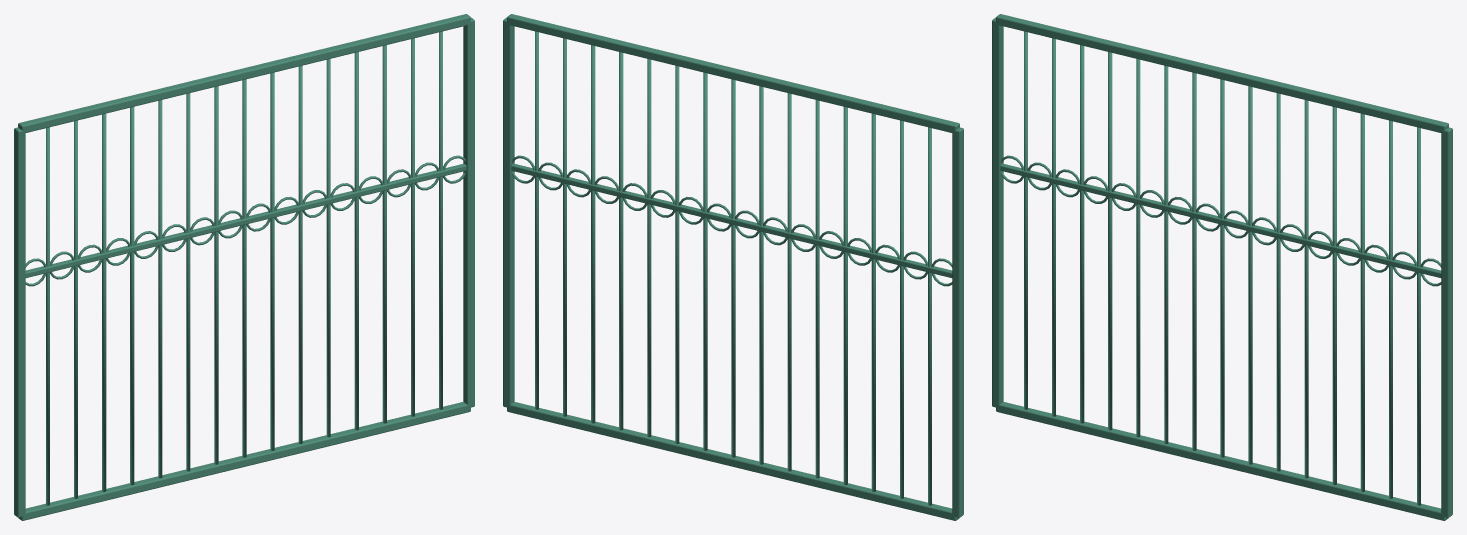
Rendered from grille_panel.glb.
3 renders of one model, left to right at view 1: azimuth 30°, elevation 25°; view 2: azimuth 150°, elevation 25°; view 3: azimuth 330°, elevation 25°, orthographic.
Parts seen in each view (by area): view 1: grille_panel; view 2: grille_panel; view 3: grille_panel.
Part boxes in pixels (x1,y1,x2,y2): grille_panel: [14, 14, 474, 520]; grille_panel: [503, 14, 963, 520]; grille_panel: [992, 14, 1452, 520].
Bounding box in the file's own units: 1.73 × 1.43 × 0.03.
